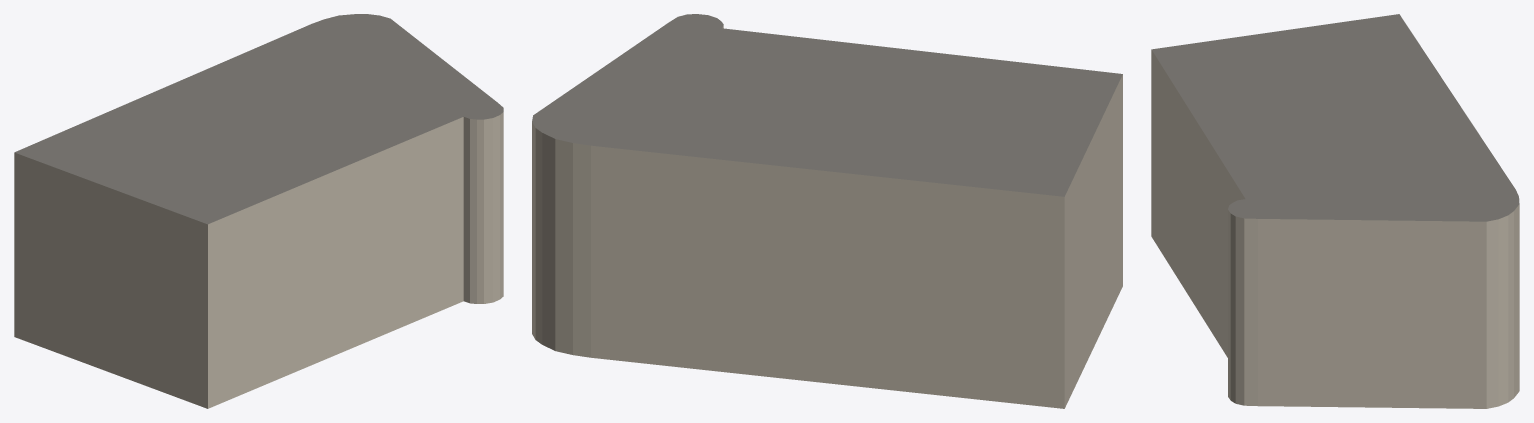
3 renders of one model, left to right at view 1: azimuth 30°, elevation 25°; view 2: azimuth 150°, elevation 25°; view 3: azimuth 270°, elevation 25°, orthographic. The views are drawn at different scales.
Parts seen in each view (by area): view 1: HP-w1211969173; view 2: HP-w1211969173; view 3: HP-w1211969173.
Part boxes in pixels (bbox=[...]): HP-w1211969173: bbox=[14, 14, 503, 408]; HP-w1211969173: bbox=[532, 14, 1122, 408]; HP-w1211969173: bbox=[1151, 14, 1519, 408].
Bounding box in the file's own units: 42.81 × 18 × 32.06.
